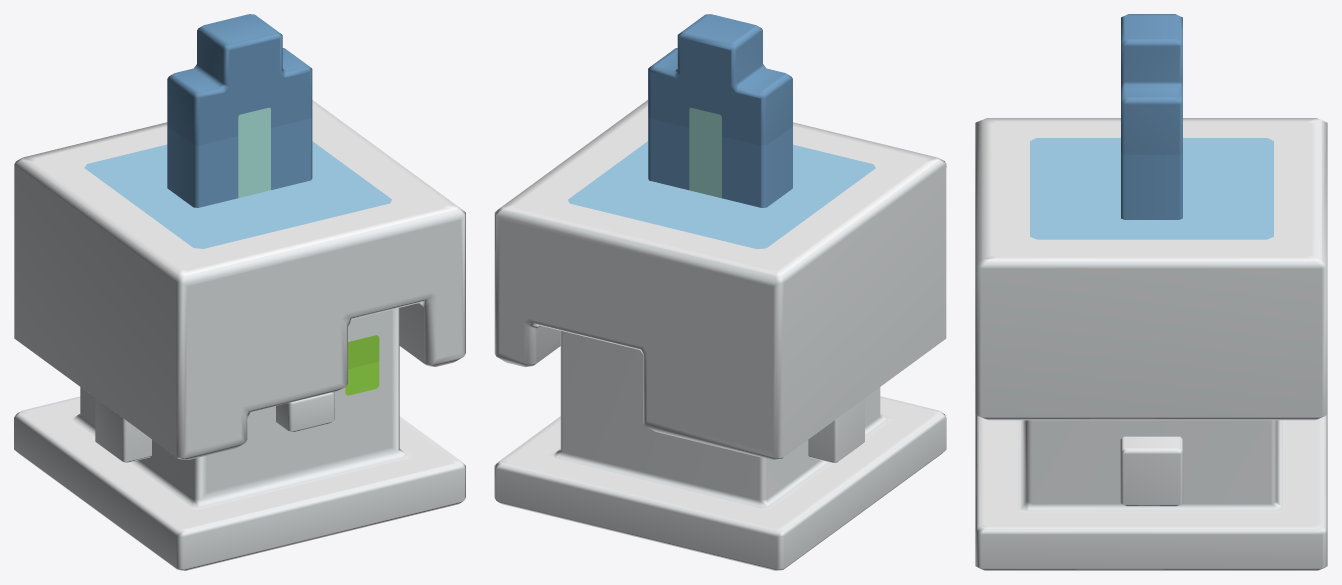
Rendered from model_shiny.obj.
3 renders of one model, left to right at view 1: azimuth 30°, elevation 25°; view 2: azimuth 150°, elevation 25°; view 3: azimuth 270°, elevation 25°, orthographic. The views are drawn at different scales.
Visible parts, largest first — view 1: 0607_litwick_shiny; view 2: 0607_litwick_shiny; view 3: 0607_litwick_shiny.
Part boxes in pixels (x1,y1,x2,y2): 0607_litwick_shiny: (14, 14, 465, 570); 0607_litwick_shiny: (494, 14, 946, 570); 0607_litwick_shiny: (975, 14, 1327, 570).
Bounding box in the file's own units: 1.12 × 1.66 × 1.13.
Materials: 1 (1 with a texture image).
